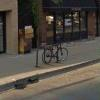Bicycle: (41, 37, 71, 65)
